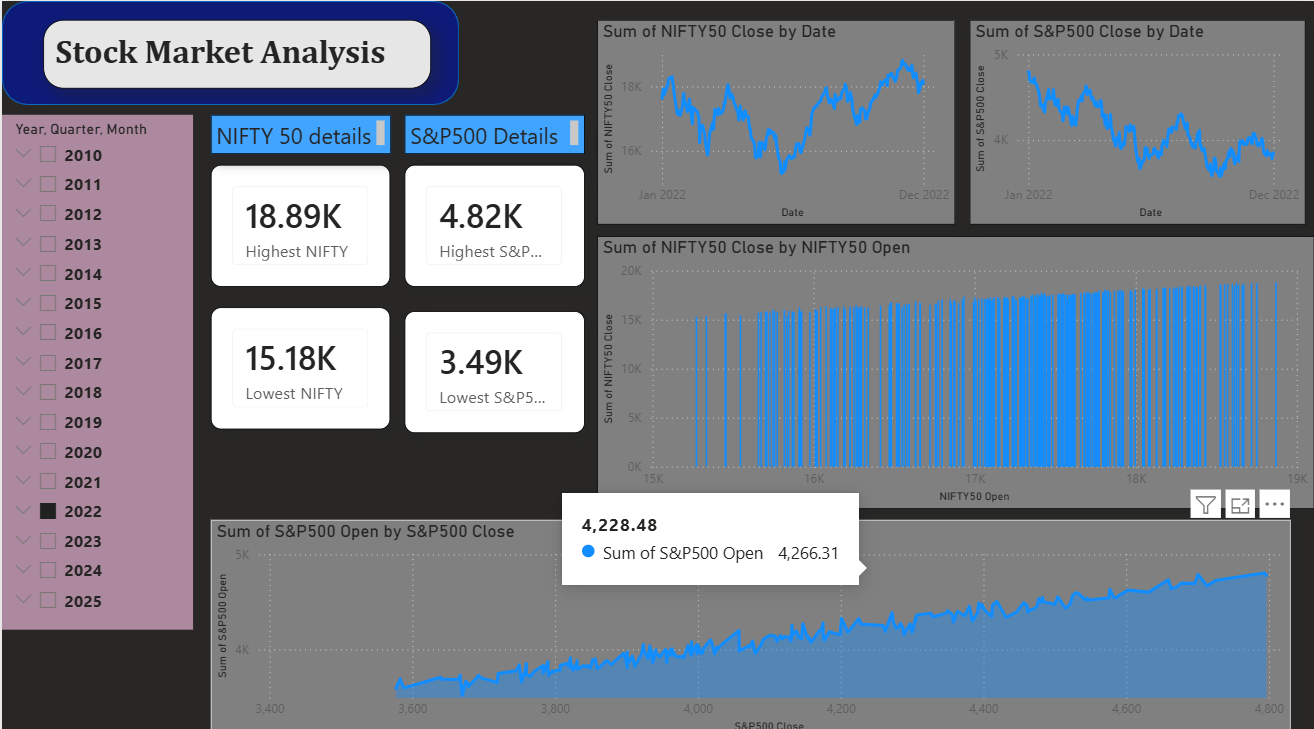

The dashboard page shown, as its layout file describes it:
{"tool":"powerbi","page":{"name":"Stock Market Analysis","canvas":[1280,720],"ordinal":1},"visuals":[{"type":"shape","box":[0,0,446,101.5],"z":0},{"type":"textbox","box":[39.8,17.8,378.7,67.2],"z":1000},{"type":"slicer","fields":{"Values":["Date Table.Year","Date Table.Quarter","Date Table.Month"]},"box":[0,111.1,186.6,502.2],"z":2000},{"type":"cardVisual","fields":{"Data":["Measures Table.Highest NIFTY"]},"box":[203.1,159.2,175,119.4],"z":3000},{"type":"cardVisual","fields":{"Data":["Measures Table.Lowest NIFTY"]},"box":[203.1,299.1,175,119.4],"z":4000},{"type":"textbox","box":[203.1,111.1,175.6,38.4],"z":5000},{"type":"textbox","box":[392.5,111.1,175.6,38.4],"z":6000},{"type":"cardVisual","fields":{"Data":["Measures Table.Highest S&P500"]},"box":[392.5,159.2,175.6,119.4],"z":7000},{"type":"cardVisual","fields":{"Data":["Measures Table.Lowest S&P500"]},"box":[392.5,301.9,175.6,119.4],"z":8000},{"type":"lineChart","fields":{"Category":["Date Table.Date"],"Y":["Sum(daily_market_data.NIFTY50 Close)"]},"box":[580.4,17.8,349.9,200.3],"z":9000},{"type":"lineChart","fields":{"Category":["Date Table.Date"],"Y":["Sum(daily_market_data.S&P500 Close)"]},"box":[944.1,17.8,328,200.3],"z":10000},{"type":"clusteredColumnChart","fields":{"Category":["daily_market_data.NIFTY50 Open"],"Y":["Sum(daily_market_data.NIFTY50 Close)"]},"box":[580.4,229.2,699.8,266.2],"z":11000},{"type":"areaChart","fields":{"Category":["daily_market_data.S&P500 Close"],"Y":["Sum(daily_market_data.S&P500 Open)"]},"box":[203.1,506.3,1053.9,214.1],"z":12000}]}

Visuals, with their boxes in screenshot pixels (x1, y1, x2, y2), scaled from the page's 1280x720 canvas onto the 1314x729 screenshot:
shape: box(0, 0, 458, 103)
textbox: box(41, 18, 430, 86)
slicer - Date Table.Year x Date Table.Quarter: box(0, 112, 192, 621)
cardVisual - Measures Table.Highest NIFTY: box(208, 161, 388, 282)
cardVisual - Measures Table.Lowest NIFTY: box(208, 303, 388, 424)
textbox: box(208, 112, 389, 151)
textbox: box(403, 112, 583, 151)
cardVisual - Measures Table.Highest S&P500: box(403, 161, 583, 282)
cardVisual - Measures Table.Lowest S&P500: box(403, 306, 583, 427)
lineChart - Date Table.Date x Sum(daily_market_data.NIFTY50 Close): box(596, 18, 955, 221)
lineChart - Date Table.Date x Sum(daily_market_data.S&P500 Close): box(969, 18, 1306, 221)
clusteredColumnChart - daily_market_data.NIFTY50 Open x Sum(daily_market_data.NIFTY50 Close): box(596, 232, 1313, 502)
areaChart - daily_market_data.S&P500 Close x Sum(daily_market_data.S&P500 Open): box(208, 513, 1290, 728)
